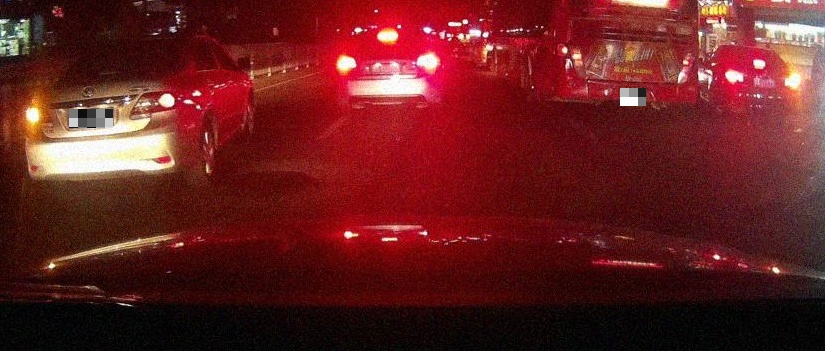L_light: (25, 104, 56, 124), (335, 54, 357, 75), (724, 69, 744, 83)
R_light: (129, 89, 177, 121), (415, 51, 439, 70), (784, 75, 800, 89)
T_light: (377, 32, 398, 41), (100, 70, 121, 75), (753, 60, 766, 67)
night-brake: (333, 23, 442, 110)
night-left: (25, 36, 190, 194)
night-right: (717, 45, 801, 116)
plate_1: (69, 109, 113, 128)
plate_2: (620, 88, 646, 106)
